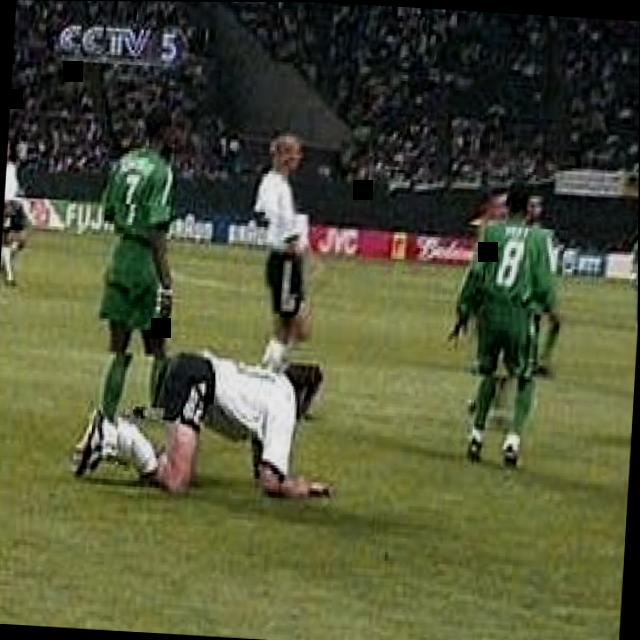Fall-Detected: (65, 314, 351, 514)
